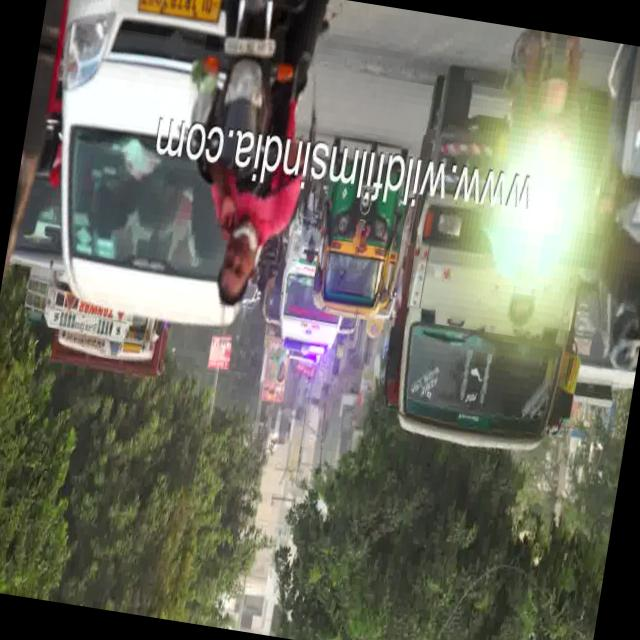ambulance: (256, 230, 367, 381)
